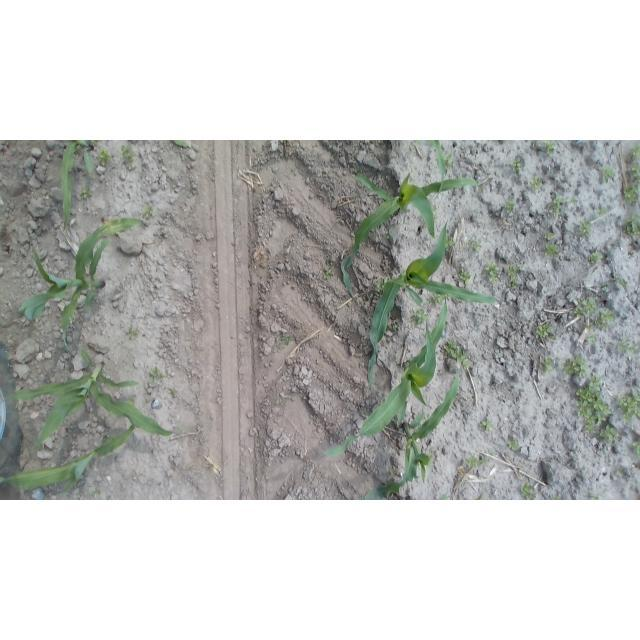Maize: (363, 214, 499, 393), (317, 296, 455, 461), (339, 166, 485, 295), (0, 348, 184, 448), (18, 221, 145, 360), (0, 419, 138, 494), (390, 370, 462, 486), (58, 141, 94, 232), (350, 461, 428, 499), (428, 140, 444, 184), (473, 484, 489, 500), (438, 486, 451, 500), (172, 140, 190, 148)
Weeds: (575, 377, 613, 431), (443, 339, 469, 369), (617, 390, 639, 422), (564, 355, 589, 377), (572, 297, 596, 318), (592, 309, 615, 329), (626, 162, 640, 191), (485, 260, 500, 285), (622, 213, 639, 235), (599, 423, 619, 441), (582, 329, 603, 346), (121, 146, 136, 169), (411, 308, 429, 327), (621, 184, 638, 204), (96, 147, 112, 167), (616, 339, 637, 354), (520, 482, 537, 500), (548, 196, 564, 215), (600, 165, 616, 184), (535, 324, 552, 341), (507, 266, 520, 288), (124, 324, 141, 340), (467, 236, 483, 252), (542, 242, 558, 258), (149, 367, 164, 384), (538, 356, 552, 372), (460, 268, 473, 285), (428, 292, 445, 305), (589, 252, 606, 265), (578, 221, 591, 238), (542, 141, 556, 156), (511, 158, 524, 174), (584, 328, 597, 344), (530, 176, 543, 192), (463, 457, 480, 469), (611, 276, 628, 288), (280, 332, 294, 346), (142, 205, 156, 219), (322, 264, 334, 280), (479, 419, 493, 432), (80, 185, 93, 199), (503, 200, 515, 215), (507, 438, 520, 451), (444, 153, 454, 169), (274, 396, 290, 406), (630, 146, 639, 163), (587, 491, 602, 500), (597, 206, 608, 218), (376, 278, 386, 290), (447, 236, 456, 248), (90, 488, 102, 497), (569, 196, 579, 206), (632, 441, 638, 456), (544, 231, 555, 239), (615, 467, 626, 475), (432, 206, 439, 218), (551, 493, 563, 500), (601, 283, 610, 292), (169, 387, 177, 397), (249, 305, 256, 316), (391, 323, 398, 333), (385, 230, 392, 240), (550, 334, 558, 342), (480, 456, 488, 464), (209, 462, 216, 470), (391, 468, 397, 476), (107, 494, 114, 499), (90, 141, 98, 144)
